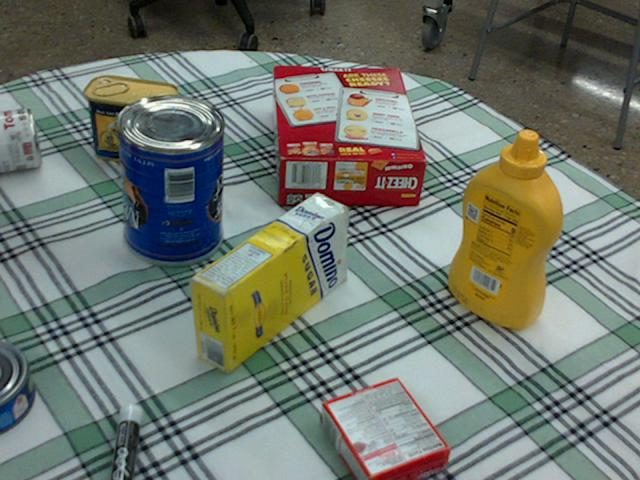cracker_box: (271, 66, 426, 205)
gelatin_box: (320, 378, 447, 479)
large_marker: (107, 404, 140, 479)
master_chef_can: (113, 95, 222, 266)
mustard_bottle: (448, 129, 562, 328)
potted_meat_can: (84, 75, 178, 165)
sugar_box: (188, 193, 346, 372)
tomato_soup_can: (0, 108, 39, 171)
tuna_fish_can: (0, 340, 31, 430)
